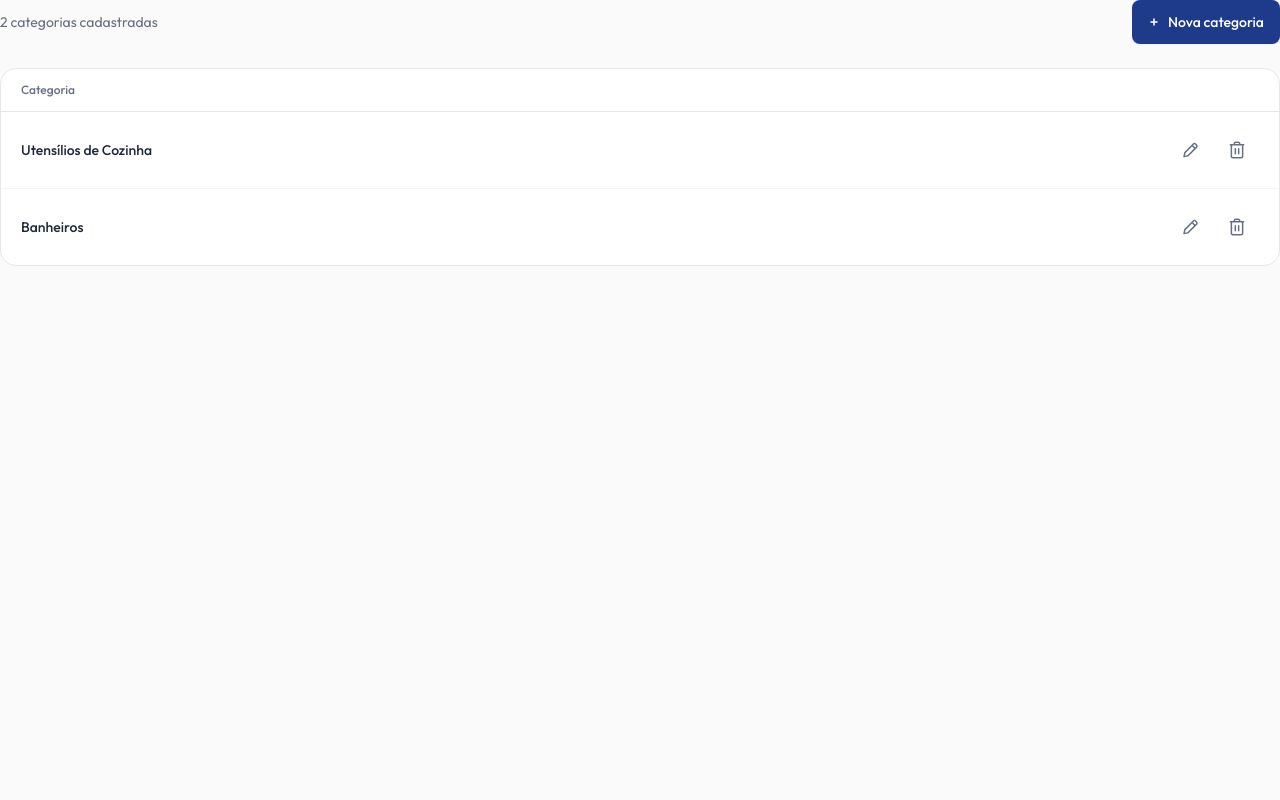
it: CategoryAdminPanel › drops a category that no longer exists when renaming it
This screenshot has width=1280, height=800.
Click the button named "Editar Banheiros".
click(1189, 227)  # box [1167,205,1211,249]
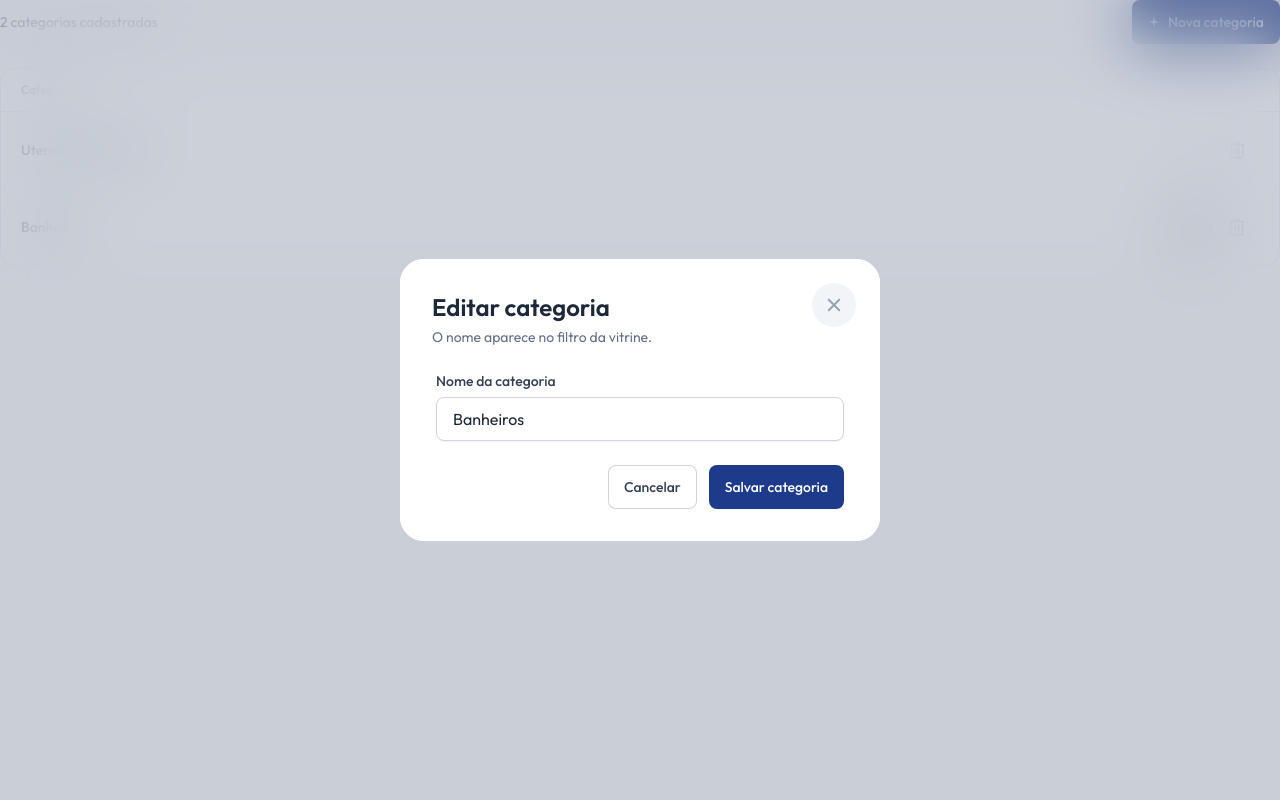
Type " Sociais" into the field labelled "Nome da categoria".
click(640, 419); type(" Sociais")  # box [436,397,844,441]
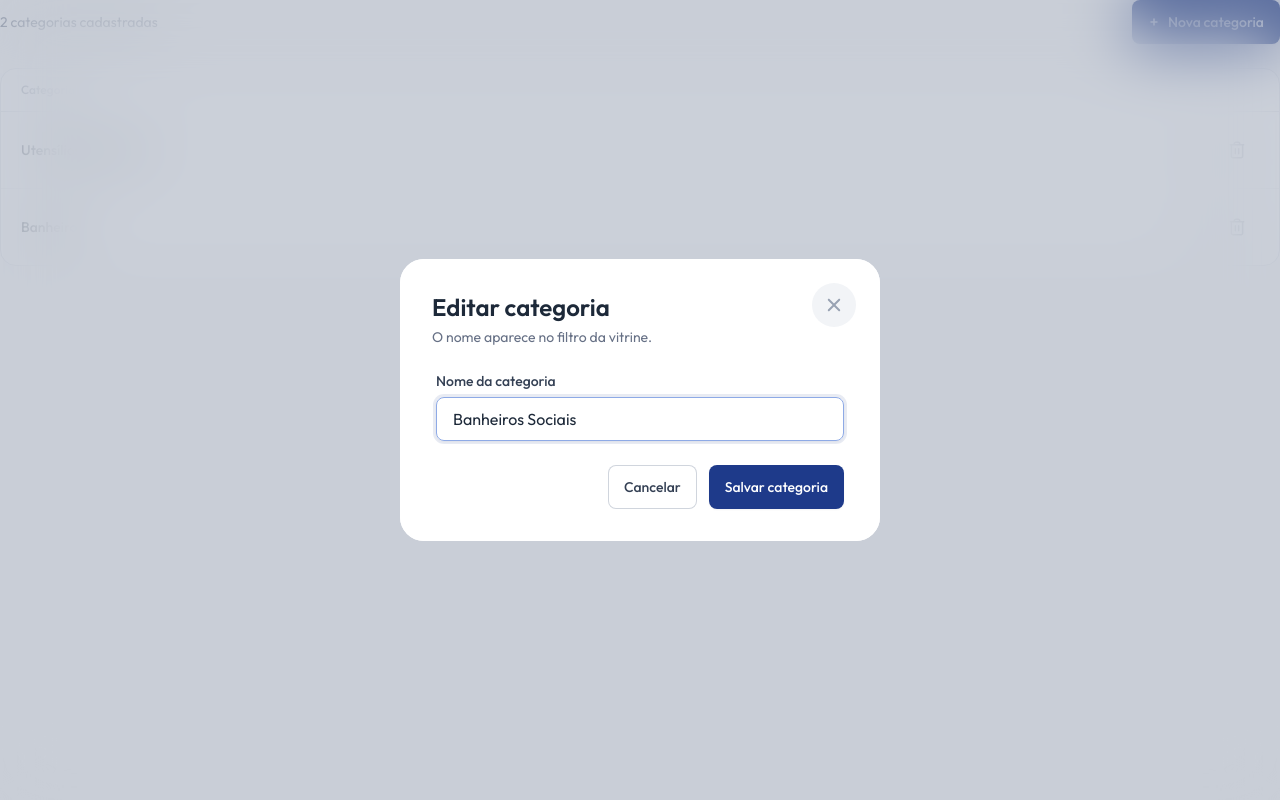
Click the button "Salvar categoria".
click(776, 487)  # box [709,465,844,509]
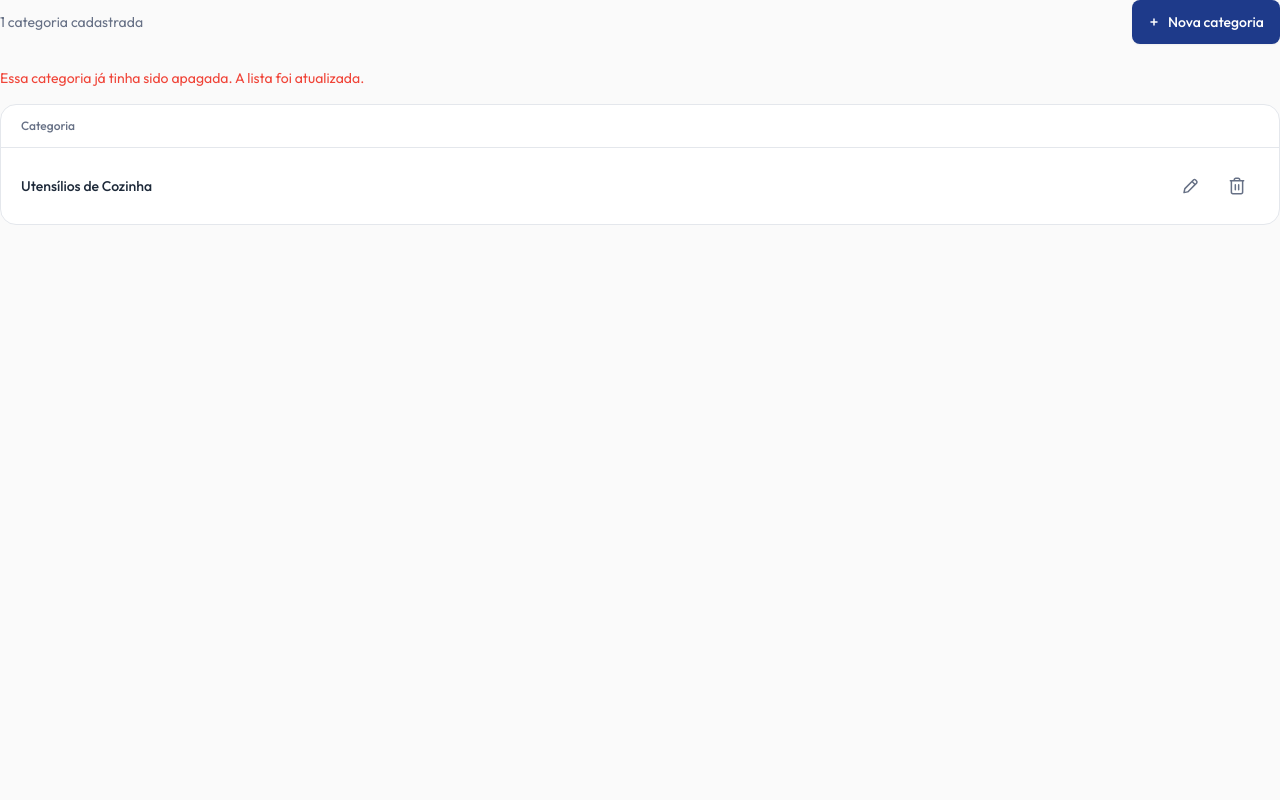
Now the text "Essa categoria já tinha sido apagada. A lista foi atualizada." is shown, box [0,69,364,87]
Now the text "Banheiros" is gone
Now the label labelled "Nome da categoria" is gone
